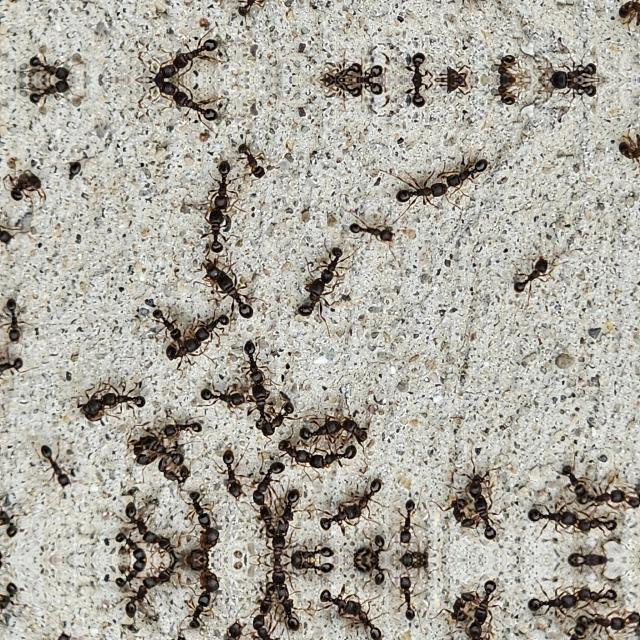Tetramorium: (434, 149, 512, 195), (195, 151, 243, 211), (307, 234, 357, 290), (34, 439, 80, 499), (294, 279, 344, 331), (354, 463, 396, 521), (232, 135, 284, 181), (394, 178, 462, 212), (186, 305, 238, 347), (0, 289, 36, 349), (120, 496, 163, 546), (120, 574, 163, 624), (518, 496, 576, 532), (518, 588, 576, 624), (355, 210, 405, 250), (174, 90, 226, 126), (174, 34, 226, 70), (2, 173, 48, 213), (574, 482, 628, 516), (272, 486, 306, 540), (138, 432, 192, 466), (574, 604, 628, 638), (272, 580, 306, 634), (18, 80, 78, 110), (18, 50, 78, 80), (104, 380, 156, 414), (512, 256, 552, 300), (196, 382, 247, 416), (264, 394, 300, 441), (354, 598, 394, 640), (202, 209, 240, 253), (393, 494, 423, 548), (393, 572, 423, 626), (0, 347, 38, 388), (165, 335, 207, 371), (215, 452, 245, 502), (225, 280, 258, 324), (310, 446, 370, 470), (183, 487, 217, 529), (183, 591, 217, 633), (297, 410, 337, 444), (236, 342, 268, 384), (318, 80, 366, 108), (246, 378, 270, 434), (318, 52, 366, 80), (472, 495, 498, 545), (472, 575, 498, 625), (322, 498, 356, 536), (322, 584, 356, 622), (162, 411, 202, 442), (231, 0, 282, 24), (251, 459, 283, 497), (153, 458, 199, 484), (274, 434, 308, 468), (401, 80, 437, 112), (442, 496, 474, 532), (401, 48, 437, 80), (442, 588, 474, 624), (542, 61, 602, 80), (576, 508, 622, 532), (576, 588, 622, 612), (146, 307, 178, 341), (460, 465, 492, 499), (542, 80, 602, 98), (344, 410, 374, 446), (81, 386, 109, 424), (559, 454, 585, 494), (494, 80, 536, 104), (494, 56, 536, 80), (140, 80, 184, 102), (140, 58, 184, 80), (0, 213, 24, 253), (286, 539, 334, 559), (286, 561, 334, 581), (197, 255, 225, 289), (265, 532, 299, 560), (265, 560, 299, 588), (34, 620, 80, 640), (433, 0, 510, 10), (351, 80, 397, 96), (351, 64, 397, 80), (0, 502, 20, 538), (621, 126, 639, 166), (114, 529, 138, 559), (0, 580, 20, 616), (114, 561, 138, 591), (253, 500, 274, 534), (253, 586, 274, 620), (215, 618, 245, 640), (460, 620, 492, 640), (157, 533, 180, 559), (157, 561, 180, 587), (621, 0, 639, 32), (251, 622, 283, 640), (364, 537, 390, 559), (364, 561, 390, 583), (568, 547, 610, 559), (568, 561, 610, 573), (559, 626, 585, 640)
